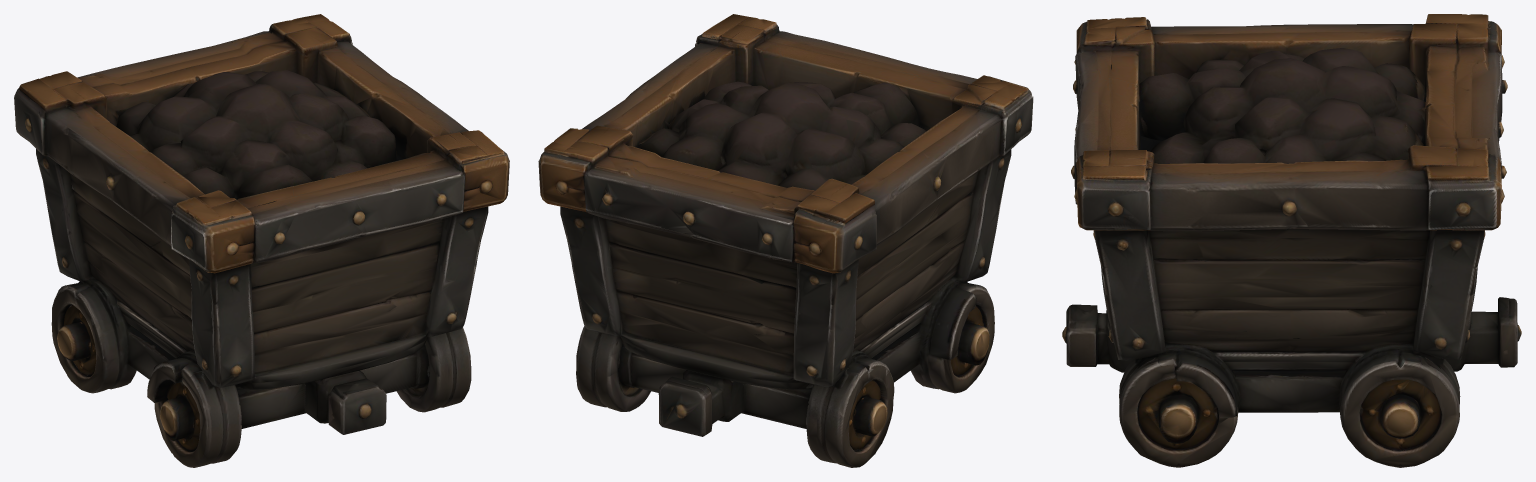
Rendered from vagoneta_de_mina.glb.
The picture shows the model from 3 angles, left to right: view 1: azimuth 30°, elevation 25°; view 2: azimuth 150°, elevation 25°; view 3: azimuth 270°, elevation 25°; orthographic projection. The views are drawn at different scales.
Parts seen in each view (by area): view 1: vagoneta_de_mina; view 2: vagoneta_de_mina; view 3: vagoneta_de_mina.
Part boxes in pixels (x1,y1,x2,y2): vagoneta_de_mina: [14, 14, 509, 467]; vagoneta_de_mina: [538, 14, 1033, 467]; vagoneta_de_mina: [1062, 14, 1521, 467].
Size of what is drawn, in the model's own units: 1.27 by 1.2 by 1.5.
Materials: 1 (1 with a texture image).
